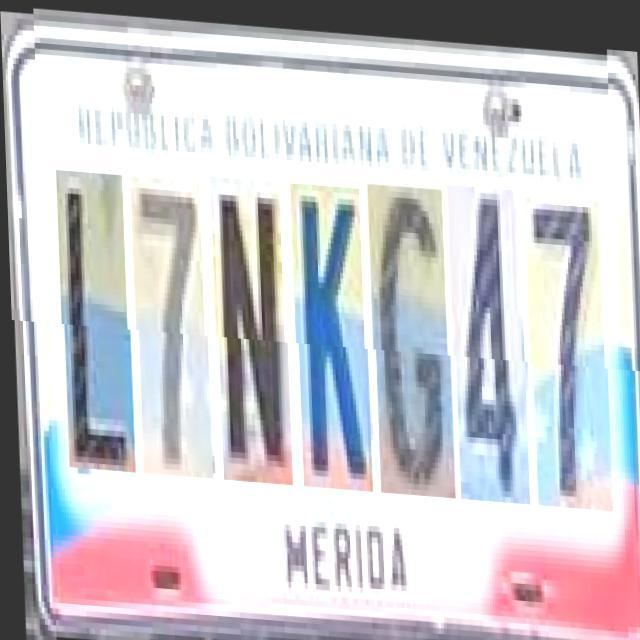4: (448, 177, 526, 496)
7: (526, 188, 609, 501), (132, 174, 210, 476)
G: (369, 178, 452, 490)
K: (292, 178, 369, 486)
L: (57, 170, 132, 470)
N: (212, 174, 290, 481)
